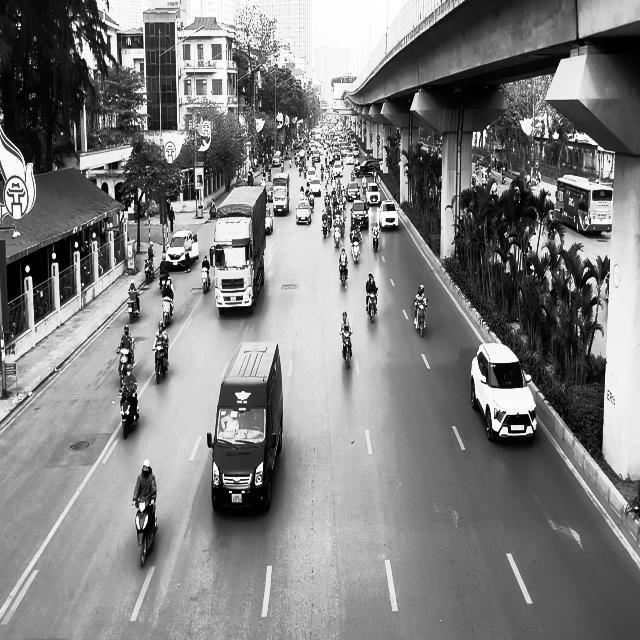bus: (555, 174, 613, 234)
car: (470, 342, 537, 442), (165, 229, 199, 270), (377, 200, 399, 230)
motorbike: (132, 496, 158, 567), (119, 387, 139, 439), (116, 344, 134, 388), (152, 342, 168, 384), (414, 298, 427, 336), (340, 329, 352, 368), (127, 290, 140, 323), (366, 289, 378, 323), (162, 294, 174, 326), (350, 232, 360, 264), (144, 257, 155, 283), (339, 260, 348, 287), (201, 266, 210, 293), (371, 226, 379, 251)
truck: (206, 341, 284, 512), (210, 185, 267, 316)
